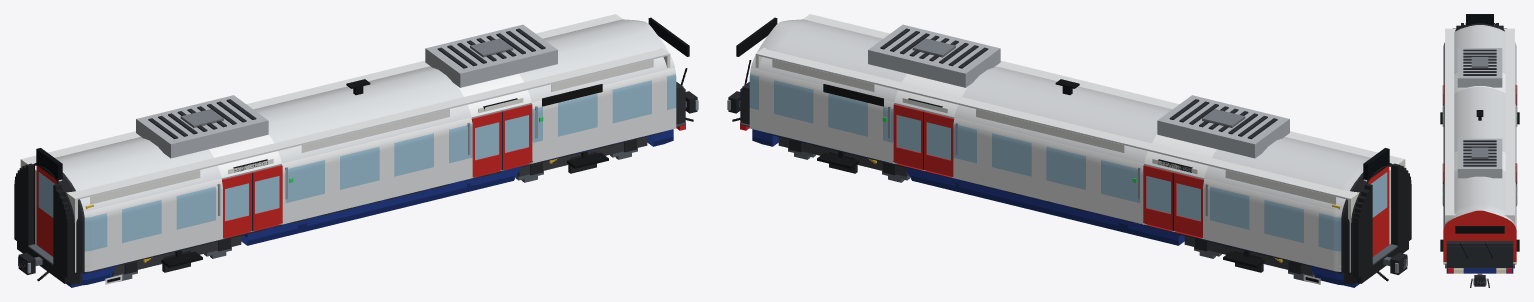
File: tube2009_front.obj
3 renders of one model, left to right at view 1: azimuth 30°, elevation 25°; view 2: azimuth 150°, elevation 25°; view 3: azimuth 270°, elevation 25°, orthographic. The views are drawn at different scales.
Visible parts, largest first — view 1: SHELL, SHELL_roof, SHELL_ceiling, SHELL_diaphragm, SHELL_ad, EXTERNAL_DOOR_3_CG_DR1_TOGGLE_TL_-0.74_X, EXTERNAL_DOOR_9_CG_DR2_TOGGLE_TL_-0.74_X, EXTERNAL_DOOR_4_CG_DR1_TOGGLE_TL_0.74_X, EXTERNAL_DOOR_10_CG_DR2_TOGGLE_TL_0.74_X, FRAME, BOGEY_FRONT, BOGEY_REAR (+5 smaller); view 2: SHELL, SHELL_roof, SHELL_ceiling, SHELL_diaphragm, SHELL_ad, EXTERNAL_DOOR_6_CG_DL1_TOGGLE_TL_-0.74_X, EXTERNAL_DOOR_12_CG_DL2_TOGGLE_TL_-0.74_X, EXTERNAL_DOOR_7_CG_DL1_TOGGLE_TL_0.74_X, EXTERNAL_DOOR_13_CG_DL2_TOGGLE_TL_0.74_X, BOGEY_FRONT, BOGEY_REAR, FRAME (+5 smaller); view 3: SHELL, SHELL_ceiling, SHELL_roof, SHELL_desk, SHELL_destbox, SHELL_end, SHELL_handle, FRAME, HEADLIGHT_1, SHELL_cabwall, BOGEY_FRONT, BOGEY_REAR (+1 smaller).
Boxes of the visible parts, x1,y1,x2,y2 form: SHELL: (33, 19, 676, 287); SHELL_roof: (136, 24, 557, 158); SHELL_ceiling: (24, 15, 667, 199); SHELL_diaphragm: (14, 163, 72, 283); SHELL_ad: (90, 59, 653, 204); EXTERNAL_DOOR_3_CG_DR1_TOGGLE_TL_-0.74_X: (222, 172, 253, 237); EXTERNAL_DOOR_9_CG_DR2_TOGGLE_TL_-0.74_X: (471, 111, 502, 176); EXTERNAL_DOOR_4_CG_DR1_TOGGLE_TL_0.74_X: (252, 165, 282, 230); EXTERNAL_DOOR_10_CG_DR2_TOGGLE_TL_0.74_X: (502, 104, 532, 169); FRAME: (18, 91, 698, 281); BOGEY_FRONT: (517, 137, 647, 176); BOGEY_REAR: (112, 236, 241, 275); SHELL: (749, 19, 1392, 287); SHELL_roof: (868, 24, 1289, 158); SHELL_ceiling: (758, 15, 1401, 199); SHELL_diaphragm: (1353, 163, 1411, 283); SHELL_ad: (772, 59, 1335, 204); EXTERNAL_DOOR_6_CG_DL1_TOGGLE_TL_-0.74_X: (1172, 172, 1203, 237); EXTERNAL_DOOR_12_CG_DL2_TOGGLE_TL_-0.74_X: (923, 111, 954, 176); EXTERNAL_DOOR_7_CG_DL1_TOGGLE_TL_0.74_X: (1143, 165, 1173, 230); EXTERNAL_DOOR_13_CG_DL2_TOGGLE_TL_0.74_X: (893, 104, 923, 169); BOGEY_FRONT: (778, 137, 908, 176); BOGEY_REAR: (1184, 236, 1313, 275); FRAME: (727, 91, 1407, 281); SHELL: (1443, 23, 1516, 273); SHELL_ceiling: (1445, 29, 1514, 214); SHELL_roof: (1457, 48, 1502, 178); SHELL_desk: (1446, 241, 1513, 267); SHELL_destbox: (1455, 226, 1504, 233); SHELL_end: (1445, 14, 1514, 29); SHELL_handle: (1442, 85, 1517, 204); FRAME: (1470, 273, 1489, 287); HEADLIGHT_1: (1453, 268, 1506, 273); SHELL_cabwall: (1445, 214, 1514, 223); BOGEY_FRONT: (1440, 239, 1519, 251); BOGEY_REAR: (1440, 112, 1519, 124).
Bounding box in the file's own units: 17.84 × 3.24 × 2.84.
1 material, 1 textured.
